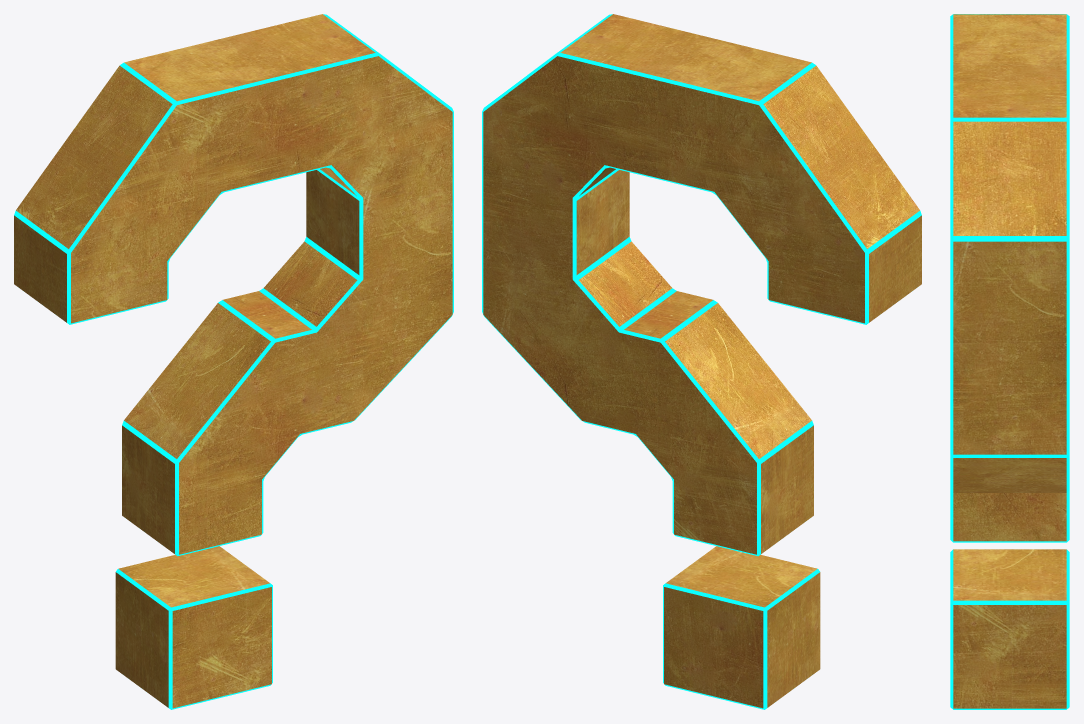
3 renders of one model, left to right at view 1: azimuth 30°, elevation 25°; view 2: azimuth 150°, elevation 25°; view 3: azimuth 270°, elevation 25°, orthographic. The views are drawn at different scales.
Parts seen in each view (by area): view 1: ?, bleu; view 2: ?, bleu; view 3: ?, bleu.
Part boxes in pixels (x1,y1,x2,y2): ?: (14, 14, 452, 708); bleu: (14, 14, 453, 709); ?: (483, 14, 921, 708); bleu: (482, 14, 921, 709); ?: (953, 14, 1066, 708); bleu: (950, 14, 1069, 709).
Bounding box in the file's own units: 2 × 3 × 0.5.
2 materials, 1 textured.
